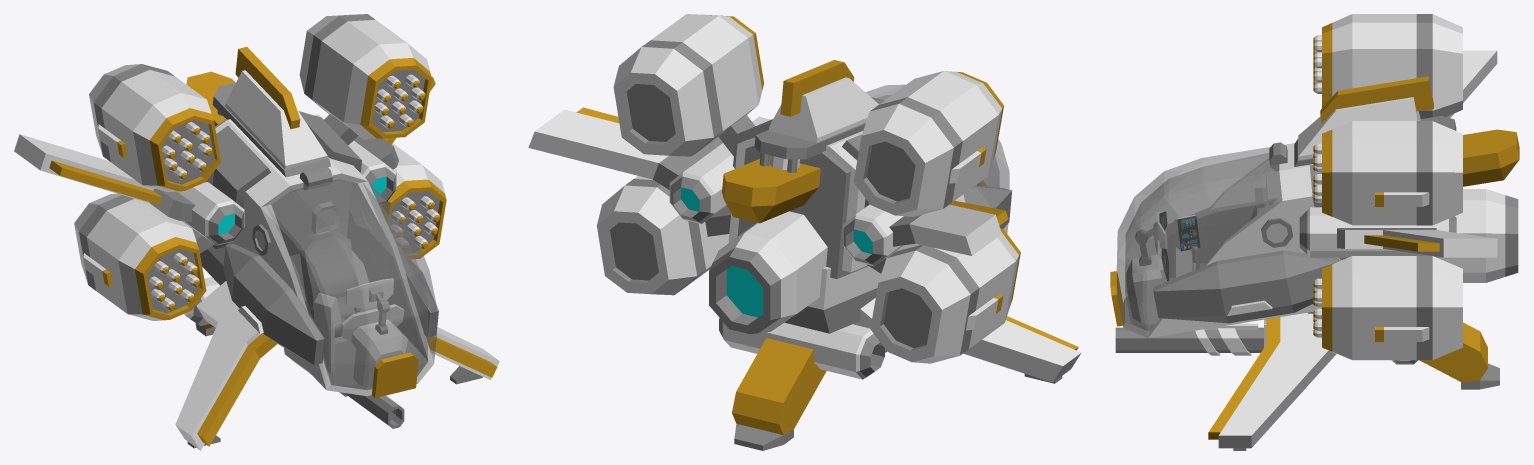
The model's file is SM_SpaceshipS_Assault03.fbx.
3 renders of one model, left to right at view 1: azimuth 30°, elevation 25°; view 2: azimuth 150°, elevation 25°; view 3: azimuth 270°, elevation 25°, orthographic. The views are drawn at different scales.
Visible parts, largest first — view 1: SM_SpaceshipS_Assault03, SM_SpaceshipS_Assault03_Cockpit_Glass, SM_SpaceshipS_Assault03_RL_T_R, SM_SpaceshipS_Assault03_RL_T_L, SM_SpaceshipS_Assault03_RL_B_L, SM_SpaceshipS_Assault03_RL_B_R, SM_SpaceshipS_Assault03_Laser; view 2: SM_SpaceshipS_Assault03, SM_SpaceshipS_Assault03_RL_T_R, SM_SpaceshipS_Assault03_RL_T_L, SM_SpaceshipS_Assault03_RL_B_L, SM_SpaceshipS_Assault03_RL_B_R, SM_SpaceshipS_Assault03_Cockpit_Glass; view 3: SM_SpaceshipS_Assault03, SM_SpaceshipS_Assault03_Cockpit_Glass, SM_SpaceshipS_Assault03_RL_T_R, SM_SpaceshipS_Assault03_RL_B_R, SM_SpaceshipS_Assault03_RL_T_L, SM_SpaceshipS_Assault03_Laser.
Boxes of the visible parts, x1=… form: SM_SpaceshipS_Assault03: x1=14, y1=46, x2=499, y2=450; SM_SpaceshipS_Assault03_Cockpit_Glass: x1=261, y1=173, x2=436, y2=397; SM_SpaceshipS_Assault03_RL_T_R: x1=299, y1=14, x2=431, y2=145; SM_SpaceshipS_Assault03_RL_T_L: x1=89, y1=64, x2=220, y2=192; SM_SpaceshipS_Assault03_RL_B_L: x1=74, y1=193, x2=214, y2=320; SM_SpaceshipS_Assault03_RL_B_R: x1=380, y1=143, x2=446, y2=258; SM_SpaceshipS_Assault03_Laser: x1=284, y1=348, x2=404, y2=428; SM_SpaceshipS_Assault03: x1=528, y1=60, x2=1081, y2=450; SM_SpaceshipS_Assault03_RL_T_R: x1=613, y1=14, x2=763, y2=156; SM_SpaceshipS_Assault03_RL_T_L: x1=853, y1=71, x2=1003, y2=216; SM_SpaceshipS_Assault03_RL_B_L: x1=866, y1=228, x2=1020, y2=363; SM_SpaceshipS_Assault03_RL_B_R: x1=596, y1=176, x2=730, y2=295; SM_SpaceshipS_Assault03_Cockpit_Glass: x1=866, y1=84, x2=1009, y2=233; SM_SpaceshipS_Assault03: x1=1123, y1=50, x2=1519, y2=450; SM_SpaceshipS_Assault03_Cockpit_Glass: x1=1110, y1=147, x2=1282, y2=337; SM_SpaceshipS_Assault03_RL_T_R: x1=1322, y1=121, x2=1462, y2=225; SM_SpaceshipS_Assault03_RL_B_R: x1=1322, y1=256, x2=1462, y2=360; SM_SpaceshipS_Assault03_RL_T_L: x1=1322, y1=14, x2=1462, y2=118; SM_SpaceshipS_Assault03_Laser: x1=1115, y1=319, x2=1266, y2=355.
Size of the model in its own units: 437 by 323 by 390.
